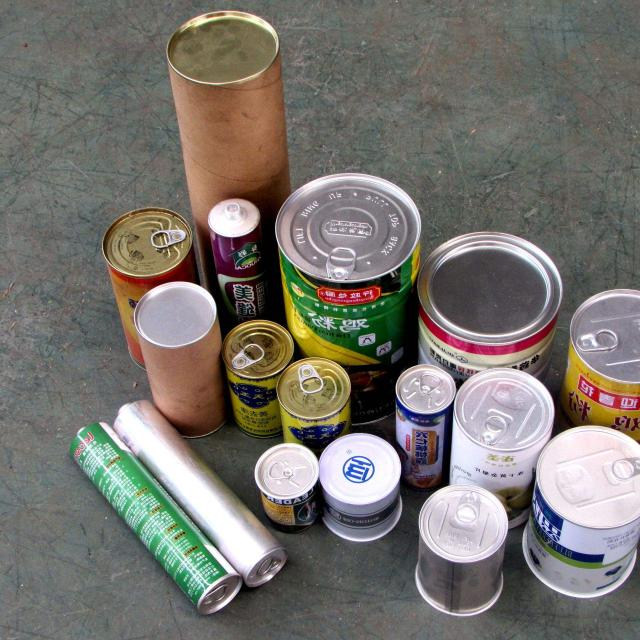metal: (70, 422, 241, 614), (114, 400, 288, 588), (276, 174, 421, 389), (166, 11, 290, 223), (418, 232, 562, 386), (522, 426, 640, 598), (450, 369, 554, 528), (102, 208, 199, 368), (134, 281, 226, 438), (560, 289, 640, 442), (415, 485, 508, 616), (319, 434, 402, 541), (222, 320, 294, 438), (208, 199, 269, 331), (396, 365, 456, 490), (278, 358, 351, 455), (255, 444, 319, 532)
